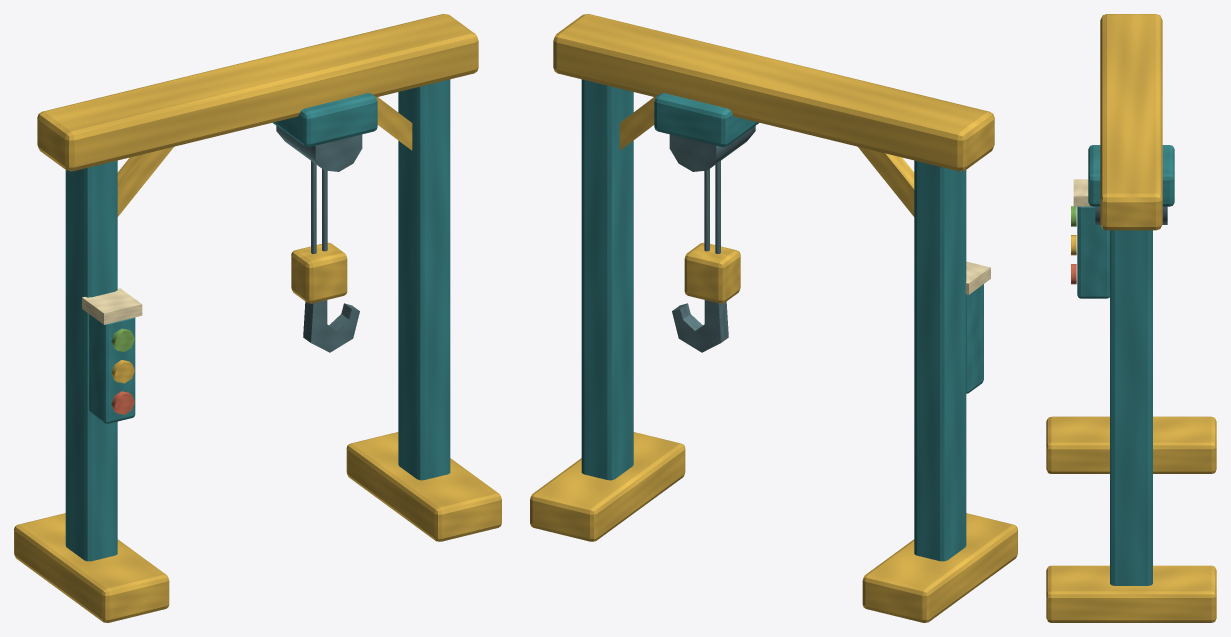
File: industry-gantry-crane.glb
3 views of the same model, side by side, from view 1: azimuth 30°, elevation 25°; view 2: azimuth 150°, elevation 25°; view 3: azimuth 270°, elevation 25° (orthographic). The views are drawn at different scales.
Parts seen in each view (by area): view 1: industry-gantry-crane-mesh; view 2: industry-gantry-crane-mesh; view 3: industry-gantry-crane-mesh.
Boxes of the visible parts, x1,y1,x2,y2 form: industry-gantry-crane-mesh: (14, 14, 501, 622); industry-gantry-crane-mesh: (530, 14, 1017, 622); industry-gantry-crane-mesh: (1046, 14, 1216, 622).
Bounding box in the file's own units: 3.03 × 3.3 × 1.18.
Materials: 1 (1 with a texture image).
